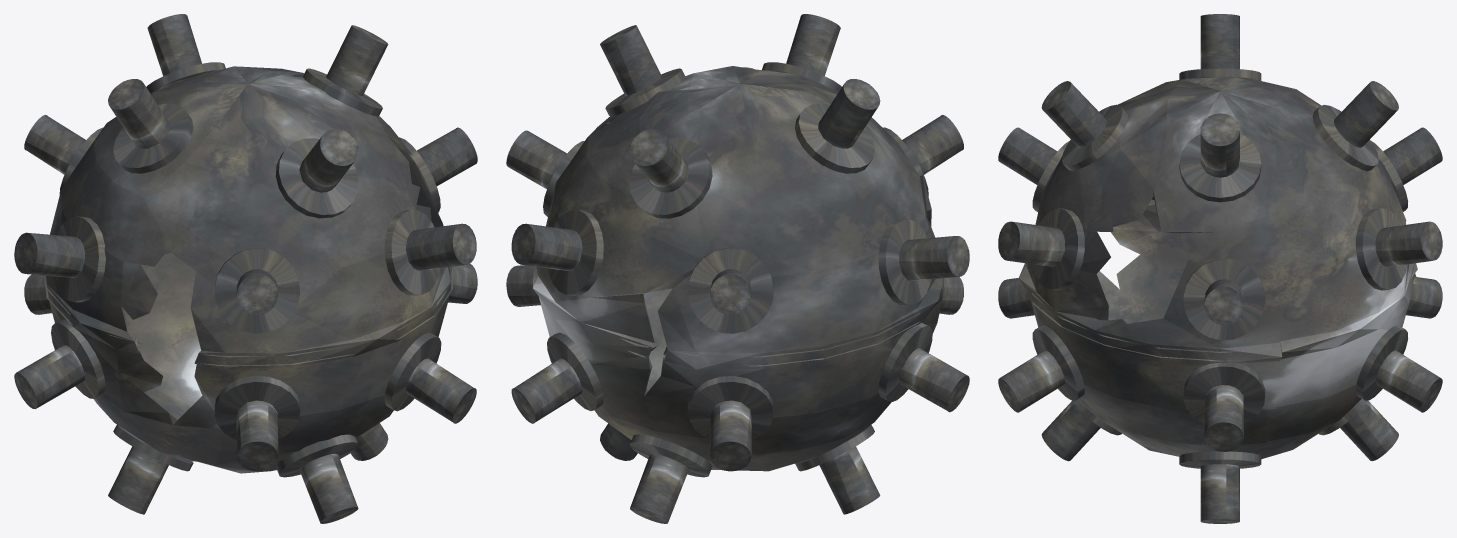
The model's file is mine.fbx.
The picture shows the model from 3 angles, left to right: view 1: azimuth 30°, elevation 25°; view 2: azimuth 150°, elevation 25°; view 3: azimuth 270°, elevation 25°; orthographic projection. The views are drawn at different scales.
Visible parts, largest first — view 1: obj5, obj4; view 2: obj5, obj4; view 3: obj5, obj4.
Part boxes in pixels (bbox=[...]): obj5: bbox=[44, 66, 453, 473]; obj4: bbox=[14, 14, 477, 523]; obj5: bbox=[533, 66, 943, 471]; obj4: bbox=[506, 14, 969, 523]; obj5: bbox=[1019, 76, 1417, 459]; obj4: bbox=[998, 14, 1442, 523].
Bounding box in the file's own units: 48.7 × 44.48 × 43.64.
